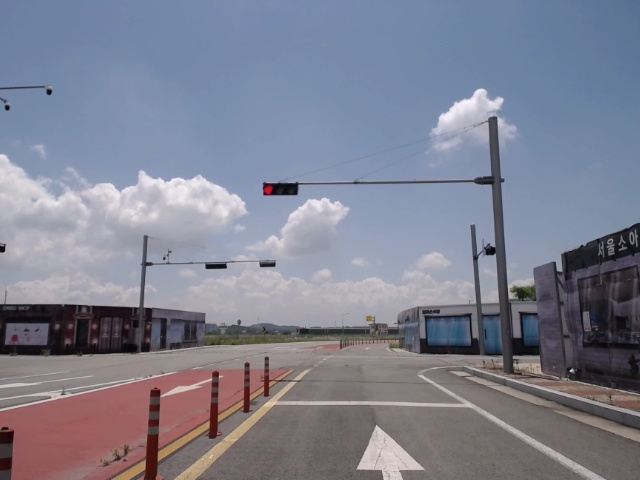red_3: (260, 182, 299, 195)
